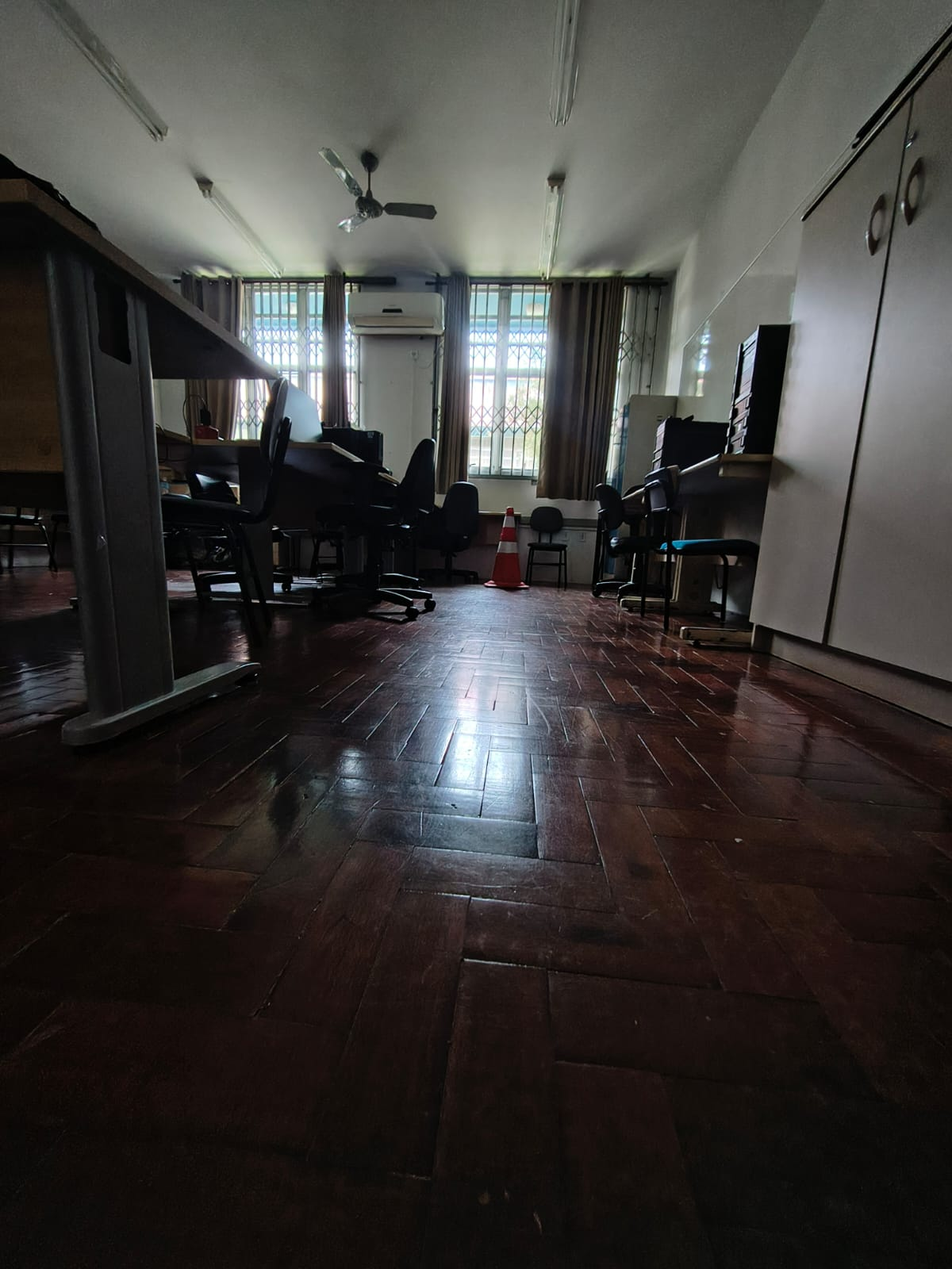cone: (481, 503, 535, 599)
